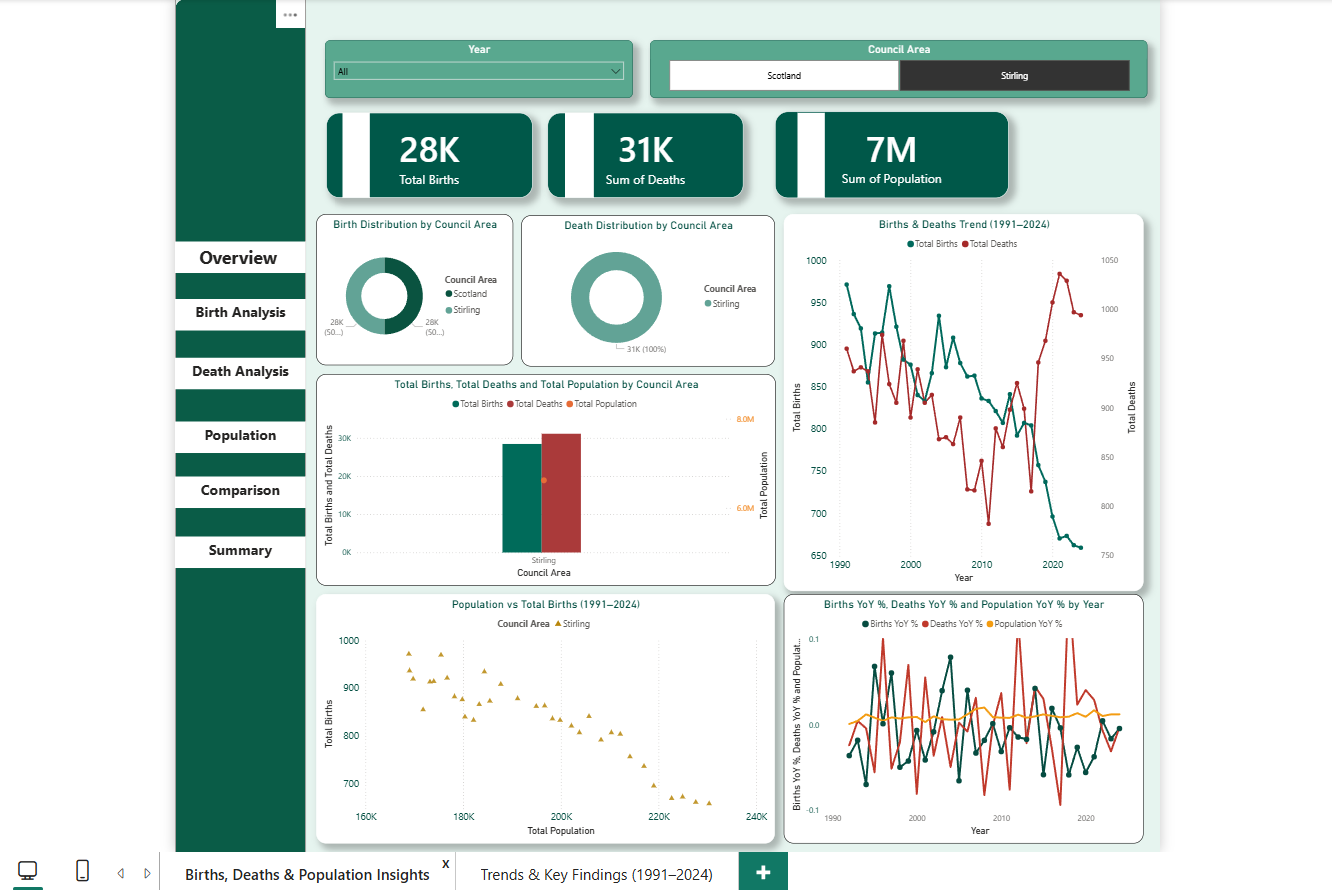

Layout of this report page (visuals, bound fields, positions):
{"tool":"powerbi","page":{"name":"Births, Deaths & Population Insights","canvas":[1500,1300],"ordinal":0},"visuals":[{"type":"shape","box":[0,0,199.9,1500.4],"z":0},{"type":"textbox","box":[0,369.5,199.1,47.6],"z":1000},{"type":"textbox","box":[0,457.5,199.1,47.6],"z":2000},{"type":"textbox","box":[0,545.5,199.1,47.6],"z":3000},{"type":"textbox","box":[0,643,199.1,47.6],"z":4000},{"type":"textbox","box":[0,726.7,199.1,47.6],"z":5000},{"type":"textbox","box":[0,818.2,199.1,47.6],"z":6000},{"type":"slicer","title":"Council Area","fields":{"Values":["DimCouncil.Council Area"]},"box":[724.1,63.3,757.9,87.9],"z":7000},{"type":"slicer","title":"Year","fields":{"Values":["DimYear.Year"]},"box":[227.9,62.6,468.9,88],"z":8000},{"type":"card","fields":{"Values":["Sum(Births.Births)"]},"box":[230.7,173.6,314.1,129.6],"z":9000},{"type":"card","fields":{"Values":["Sum(Deaths.Deaths)"]},"box":[566.8,173.6,298.8,129.6],"z":10000},{"type":"card","fields":{"Values":["Sum(Population.Population)"]},"box":[913.9,171.4,355.9,131.8],"z":11000},{"type":"shape","box":[254.8,173.6,41.7,129.6],"z":12000},{"type":"shape","box":[949,173.6,41.7,129.6],"z":13000},{"type":"shape","box":[593.1,173.6,43.9,129.6],"z":14000},{"type":"donutChart","title":"Birth Distribution by Council Area","fields":{"Category":["Deaths.Council Area"],"Y":["Births.Total Births"]},"box":[215.3,327.3,300,230],"z":15000},{"type":"donutChart","title":"Death Distribution by Council Area","fields":{"Category":["Deaths.Council Area"],"Y":["Deaths.Total Deaths"]},"box":[527.2,329.5,386.6,230.7],"z":16000},{"type":"lineChart","title":"Births & Deaths Trend (1991–2024)","fields":{"Y":["Births.Total Births"],"Y2":["Deaths.Total Deaths"],"Category":["DimYear.Year"]},"box":[928,328,548,574],"z":17000},{"type":"lineClusteredColumnComboChart","fields":{"Category":["DimCouncil.Council Area"],"Y":["Births.Total Births","Deaths.Total Deaths"],"Y2":["Population.Total Population"]},"box":[216,572,700,322],"z":18000},{"type":"scatterChart","title":"Population vs Total Births (1991–2024)","fields":{"X":["Population.Total Population"],"Y":["Births.Total Births"],"Series":["DimCouncil.Council Area"],"Category":["DimYear.Year"]},"box":[216,906,698,380],"z":19000},{"type":"lineChart","fields":{"Category":["DimYear.Year"],"Y":["Births.Births YoY %","Deaths.Deaths YoY %","Population.Population YoY %"]},"box":[928,906,548,380],"z":20000}]}

Visuals, with their boxes in screenshot pixels (x1, y1, x2, y2):
shape: [170,0,300,889]
textbox: [170,241,300,272]
textbox: [170,298,300,329]
textbox: [170,356,300,387]
textbox: [170,419,300,450]
textbox: [170,474,300,505]
textbox: [170,534,300,565]
"Council Area" slicer: [642,41,1137,99]
"Year" slicer: [319,41,624,98]
card - Sum(Births.Births): [320,113,525,198]
card - Sum(Deaths.Deaths): [540,113,735,198]
card - Sum(Population.Population): [766,112,998,198]
shape: [336,113,363,198]
shape: [789,113,816,198]
shape: [557,113,585,198]
"Birth Distribution by Council Area" donutChart: [310,213,506,364]
"Death Distribution by Council Area" donutChart: [514,215,766,365]
"Births & Deaths Trend (1991–2024)" lineChart: [775,214,1133,588]
lineClusteredColumnComboChart - DimCouncil.Council Area x Births.Total Births: [311,373,767,583]
"Population vs Total Births (1991–2024)" scatterChart: [311,591,766,839]
lineChart - DimYear.Year x Births.Births YoY %: [775,591,1133,839]
